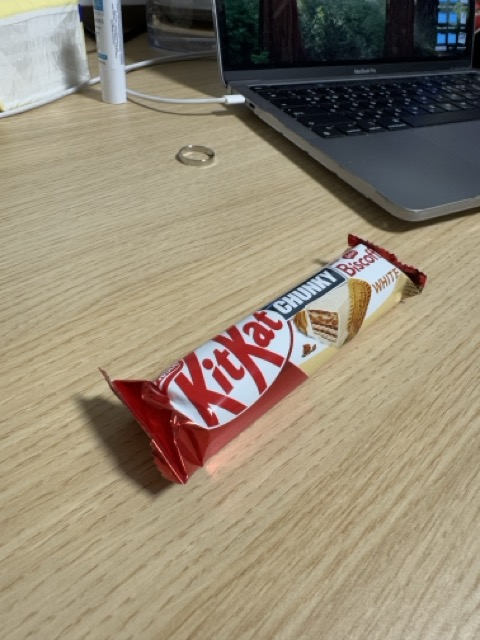chocolate: (122, 407, 436, 500)
